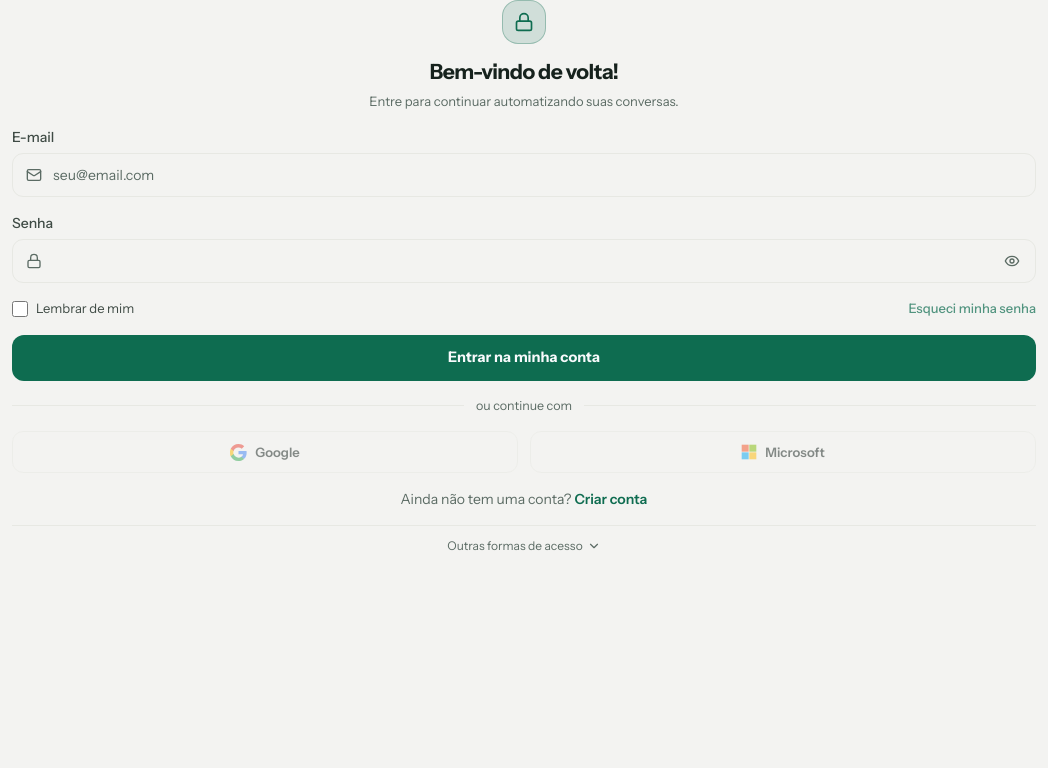
LoginForm (Milestone 6, Bloco M6F) › mostra mensagem de erro em 401
This screenshot has width=1048, height=768.
Type "a@b.com" into the field labelled "E-mail".
click(524, 175); type("a@b.com")  # box [12,153,1036,197]
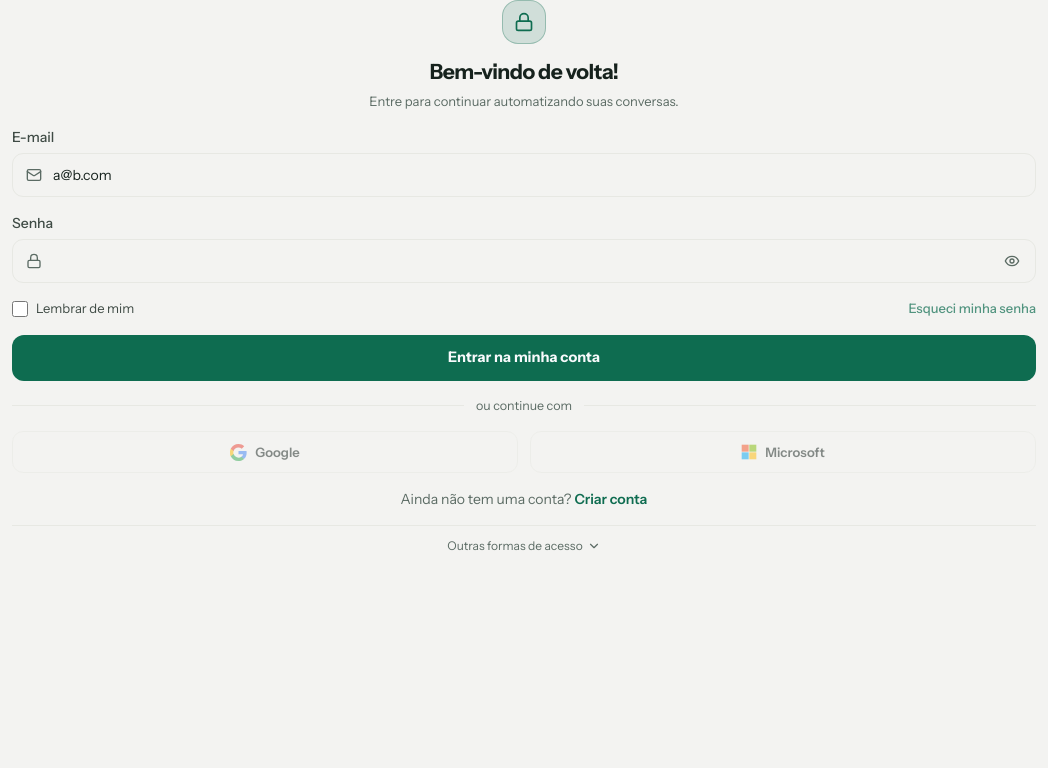
Type "errada" into the password field labelled "Senha".
click(524, 261); type("errada")  # box [12,239,1036,283]
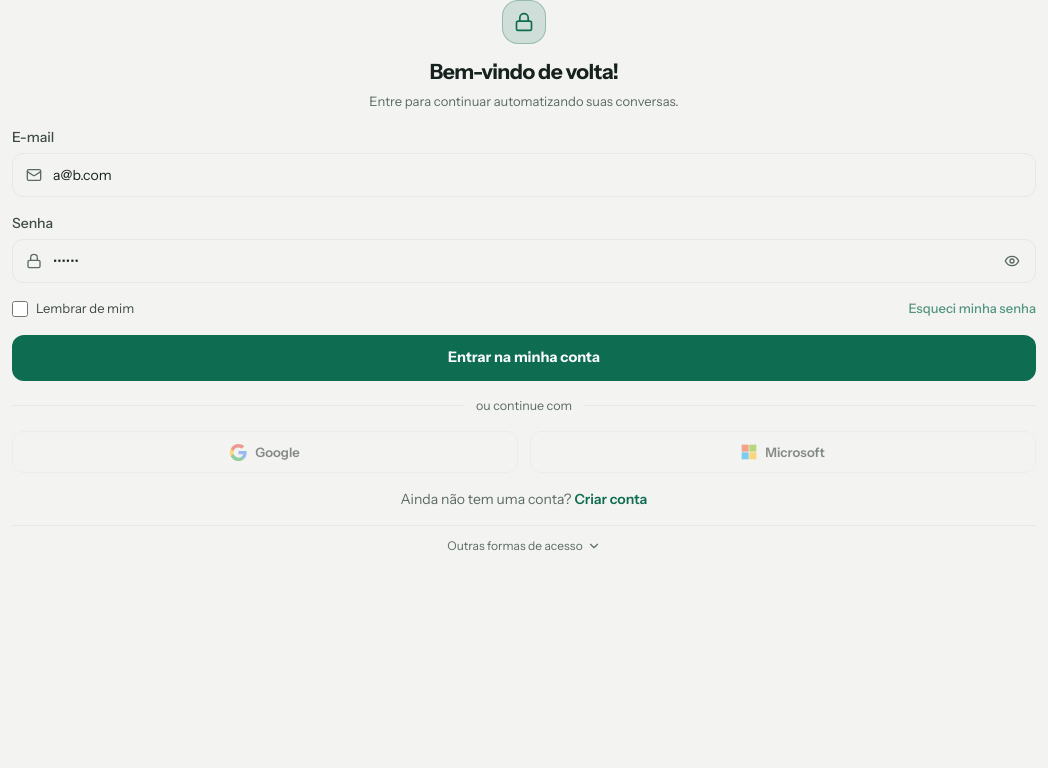
Click the button "Entrar na minha conta".
click(524, 358)  # box [12,334,1036,380]
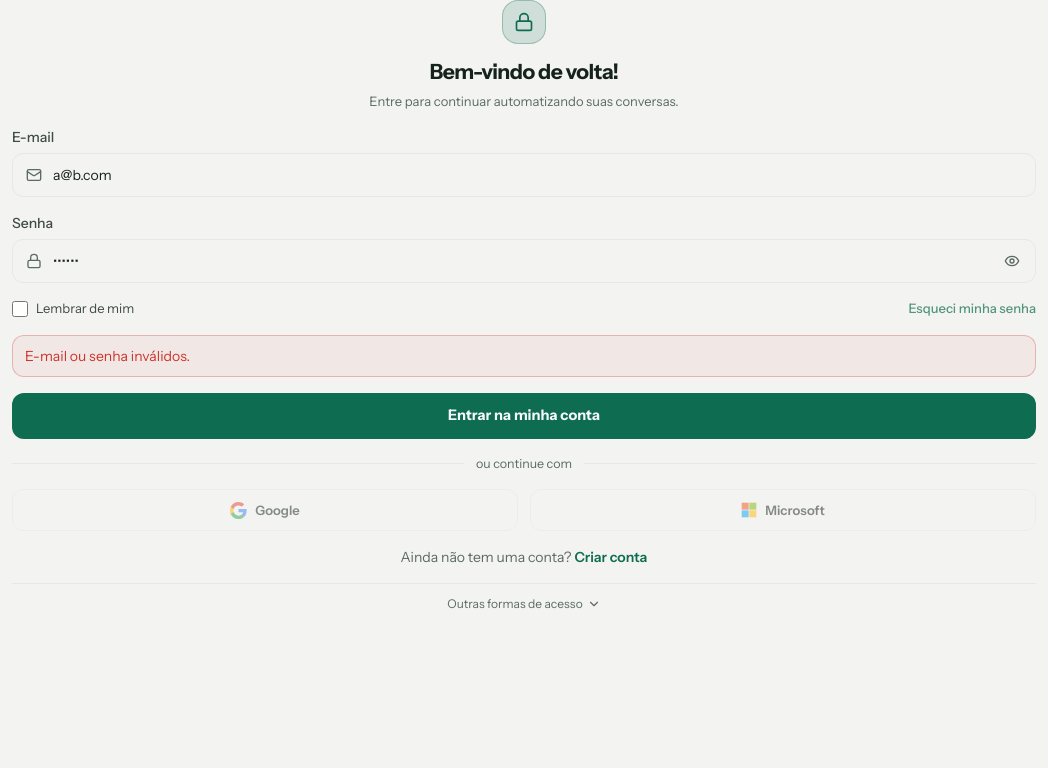
Check: the text "E-mail ou senha inválidos." is shown, box [12,334,1036,376]
